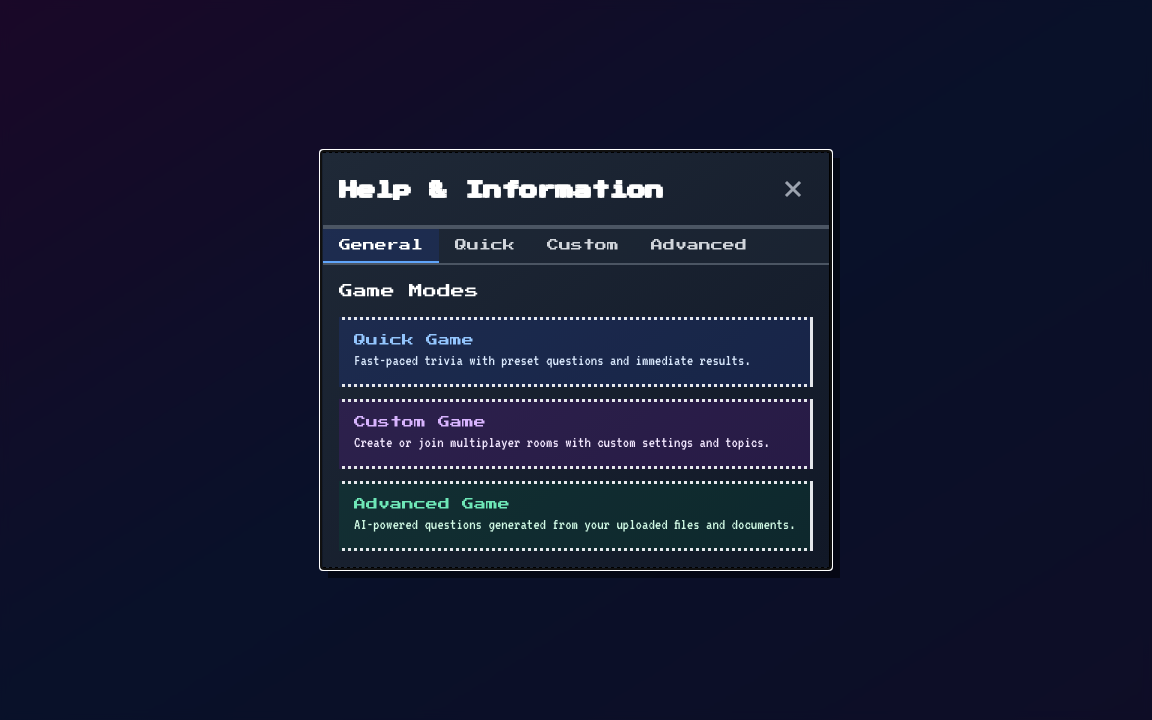
Scenario: HelpModal › Tab Content › should switch to quick tab content when clicked
Click the button "quick" at {"x": 485, "y": 246}, box [439,229,531,263]
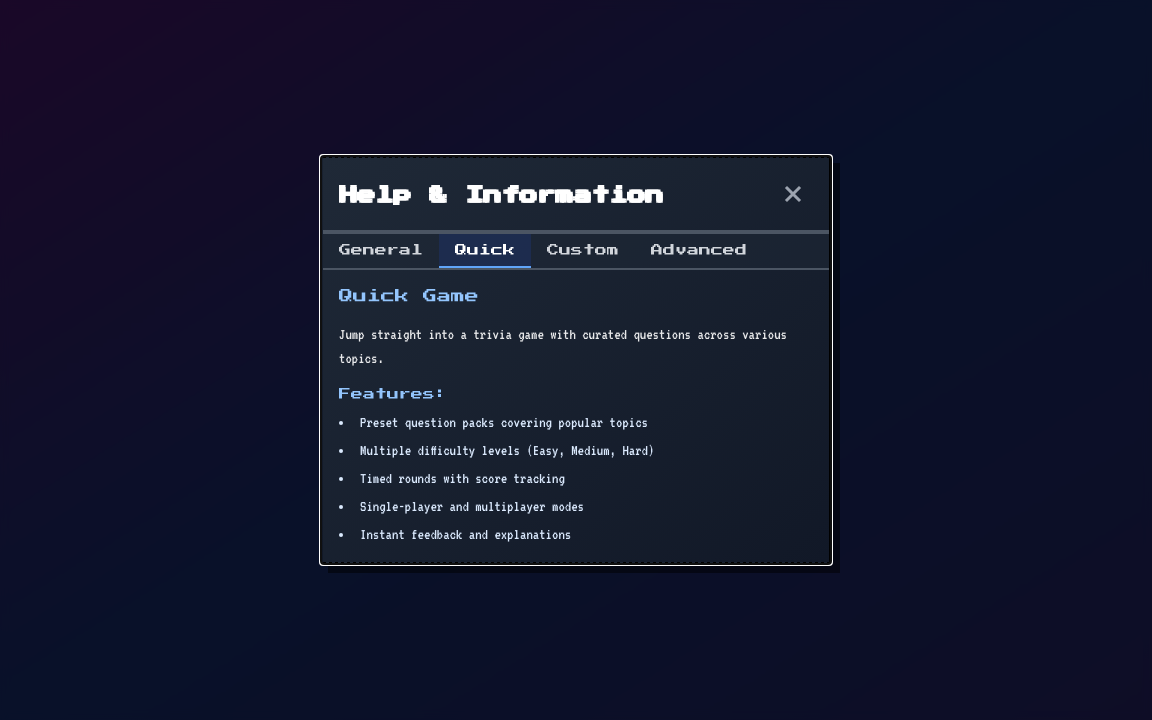
expect the heading "Quick Game" is shown: met, box [339,289,479,303]
expect the list item "Preset question packs covering popular topics" is shown: met, box [360,414,648,430]
